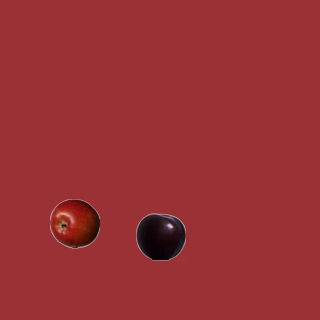Apple Braeburn: (49, 198, 99, 248)
Cherry Wax Black: (135, 211, 185, 261)
